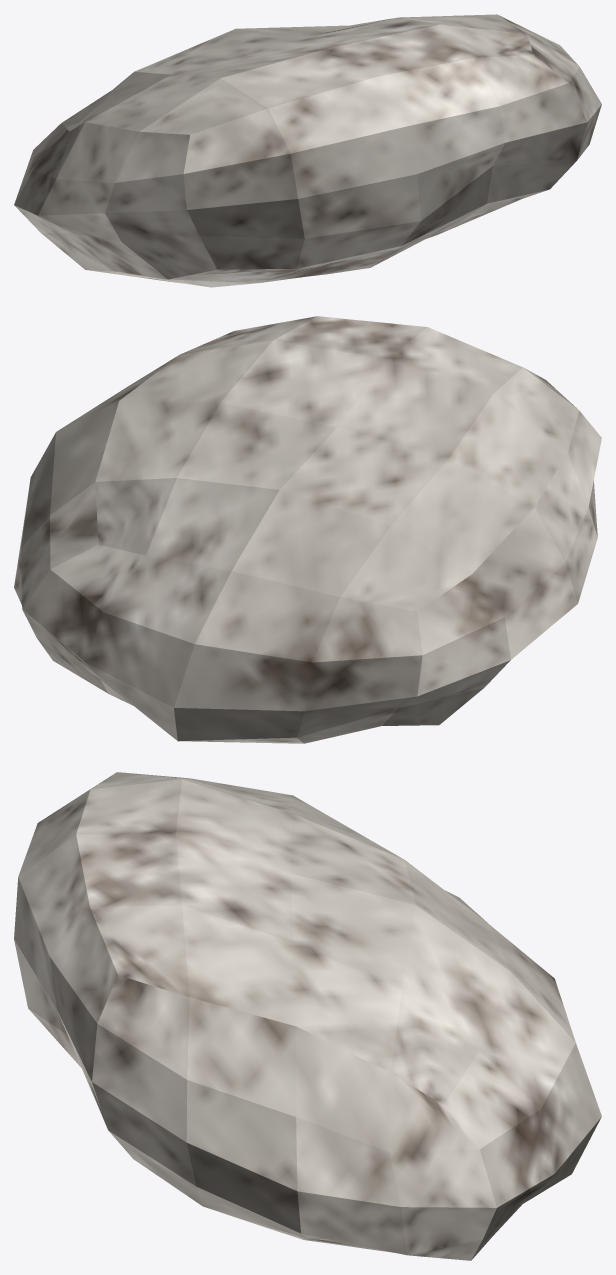
Rendered from Rock_flat.fbx.
3 renders of one model, top to bottom at view 1: azimuth 30°, elevation 25°; view 2: azimuth 150°, elevation 25°; view 3: azimuth 270°, elevation 25°, orthographic. The views are drawn at different scales.
Visible parts, largest first — view 1: Rock_flat; view 2: Rock_flat; view 3: Rock_flat.
Boxes of the visible parts, <box> form: Rock_flat: <box>14,14,601,287</box>; Rock_flat: <box>14,316,601,743</box>; Rock_flat: <box>14,772,601,1260</box>.
Size of what is drawn, in the model's own units: 424 by 212 by 335.
